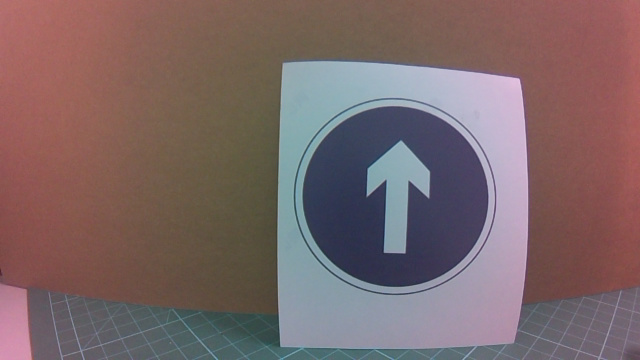forward: (304, 92, 500, 298)
